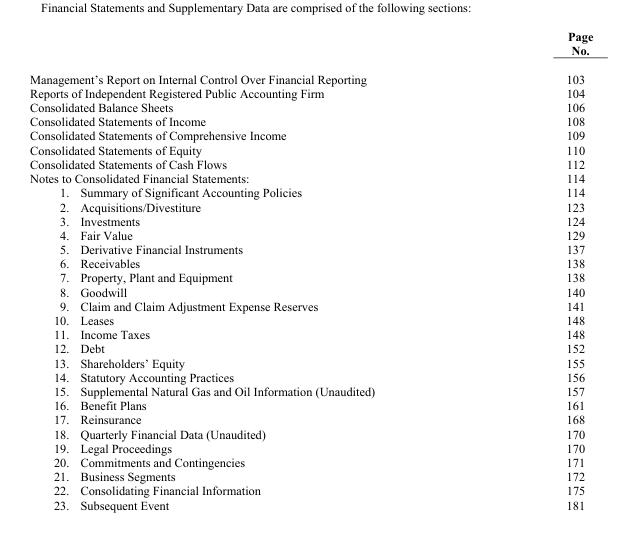table: (29, 28, 592, 511)
table column: (73, 28, 469, 511), (469, 28, 592, 511), (29, 28, 73, 511)
table column header: (29, 28, 592, 64)
table row: (29, 28, 592, 64), (29, 64, 592, 85), (29, 99, 592, 114), (29, 170, 592, 185), (29, 241, 592, 256), (29, 312, 592, 327), (29, 397, 592, 412), (29, 468, 592, 483), (29, 85, 592, 99), (29, 114, 592, 128), (29, 128, 592, 142), (29, 142, 592, 156), (29, 156, 592, 170), (29, 185, 592, 199), (29, 199, 592, 213), (29, 213, 592, 227), (29, 227, 592, 241), (29, 256, 592, 270), (29, 270, 592, 284), (29, 284, 592, 298), (29, 298, 592, 312), (29, 327, 592, 341), (29, 341, 592, 355), (29, 355, 592, 369), (29, 369, 592, 383), (29, 383, 592, 397), (29, 412, 592, 426), (29, 426, 592, 440), (29, 440, 592, 454), (29, 454, 592, 468), (29, 483, 592, 497), (29, 497, 592, 511)
table spanning cell: (29, 64, 469, 85), (29, 99, 469, 114), (29, 170, 469, 185), (29, 85, 469, 99), (29, 114, 469, 128), (29, 128, 469, 142), (29, 142, 469, 156), (29, 156, 469, 170)
